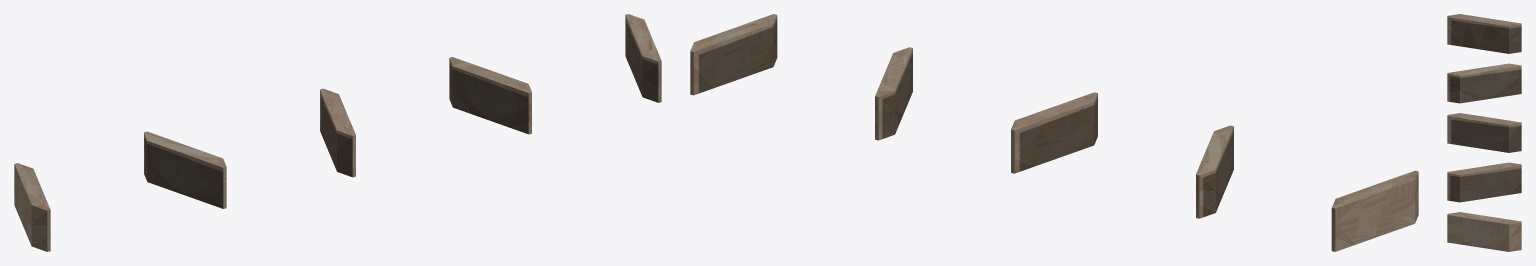
The picture shows the model from 3 angles, left to right: view 1: azimuth 30°, elevation 25°; view 2: azimuth 150°, elevation 25°; view 3: azimuth 270°, elevation 25°; orthographic projection. The views are drawn at different scales.
Parts seen in each view (by area): view 1: p4; view 2: p4; view 3: p4.
Boxes of the visible parts, box(x1,y1,x2,y2) form: p4: box(14, 14, 661, 251); p4: box(690, 14, 1418, 251); p4: box(1447, 14, 1521, 251).
Size of the model in its own units: 1564 by 95 by 234.
Materials: 1 (1 with a texture image).
